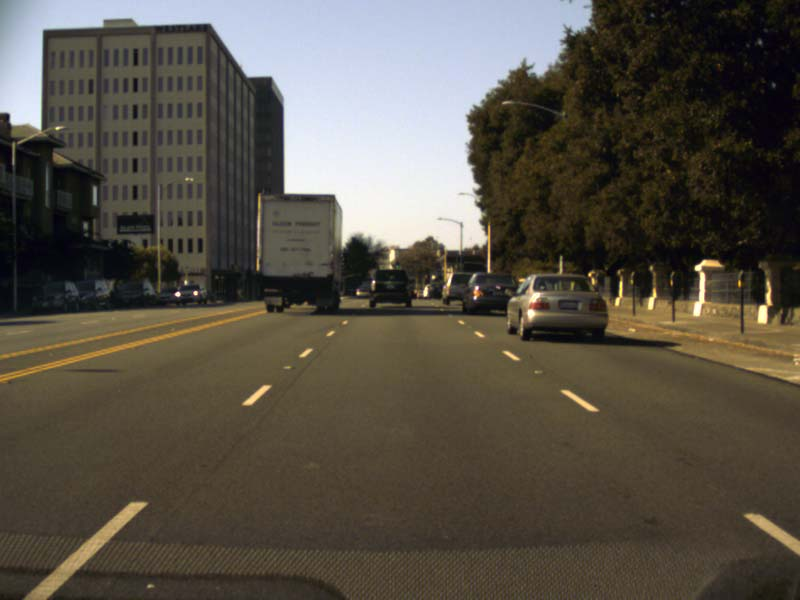Green: (395, 262, 399, 269)
